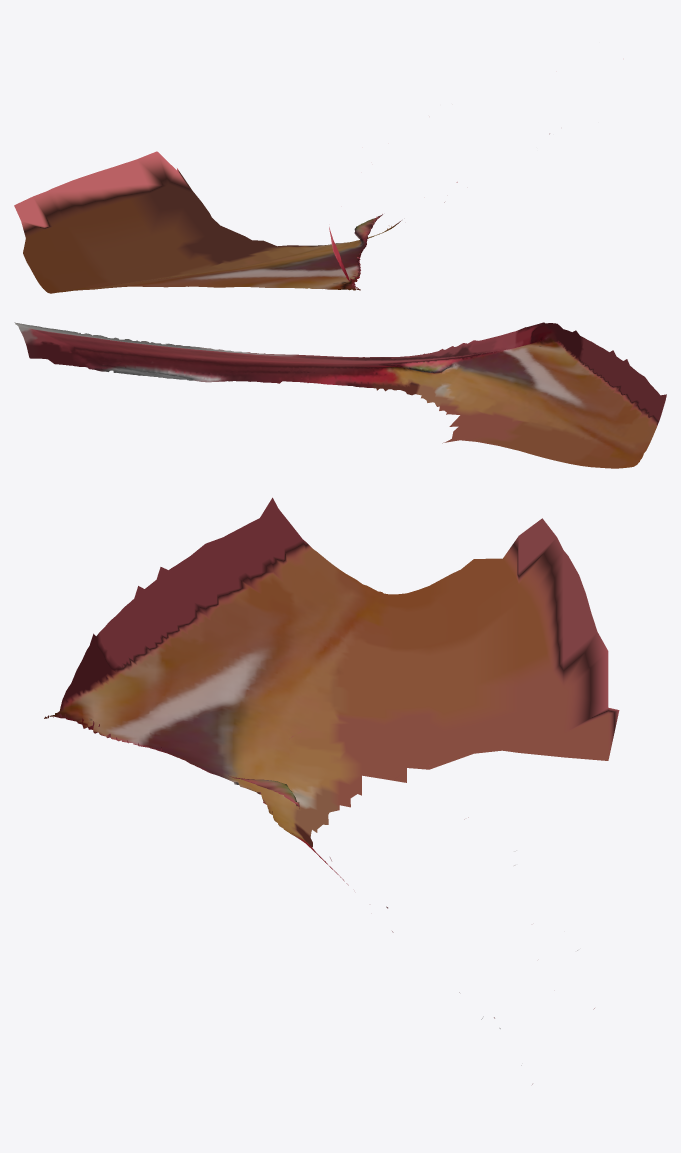
The model's file is 3d_model_stitched_image_20250705_153419.gltf.
3 views of the same model, one above another, from view 1: azimuth 30°, elevation 25°; view 2: azimuth 150°, elevation 25°; view 3: azimuth 270°, elevation 25° (orthographic). The views are drawn at different scales.
Size of the model in its own units: 0.00193 by 0.000182 by 0.00088.
